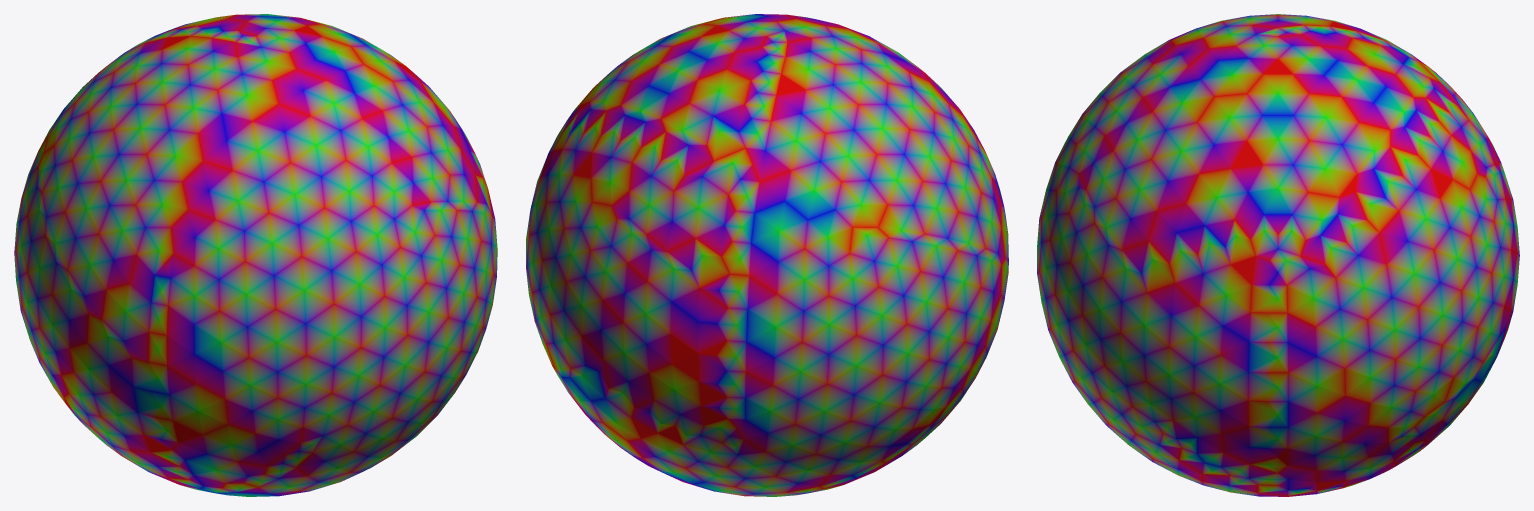
Rendered from after_decimating_reconquest_8.obj.
The picture shows the model from 3 angles, left to right: view 1: azimuth 30°, elevation 25°; view 2: azimuth 150°, elevation 25°; view 3: azimuth 270°, elevation 25°; orthographic projection.
Size of the model in its own units: 2 by 2 by 2.
